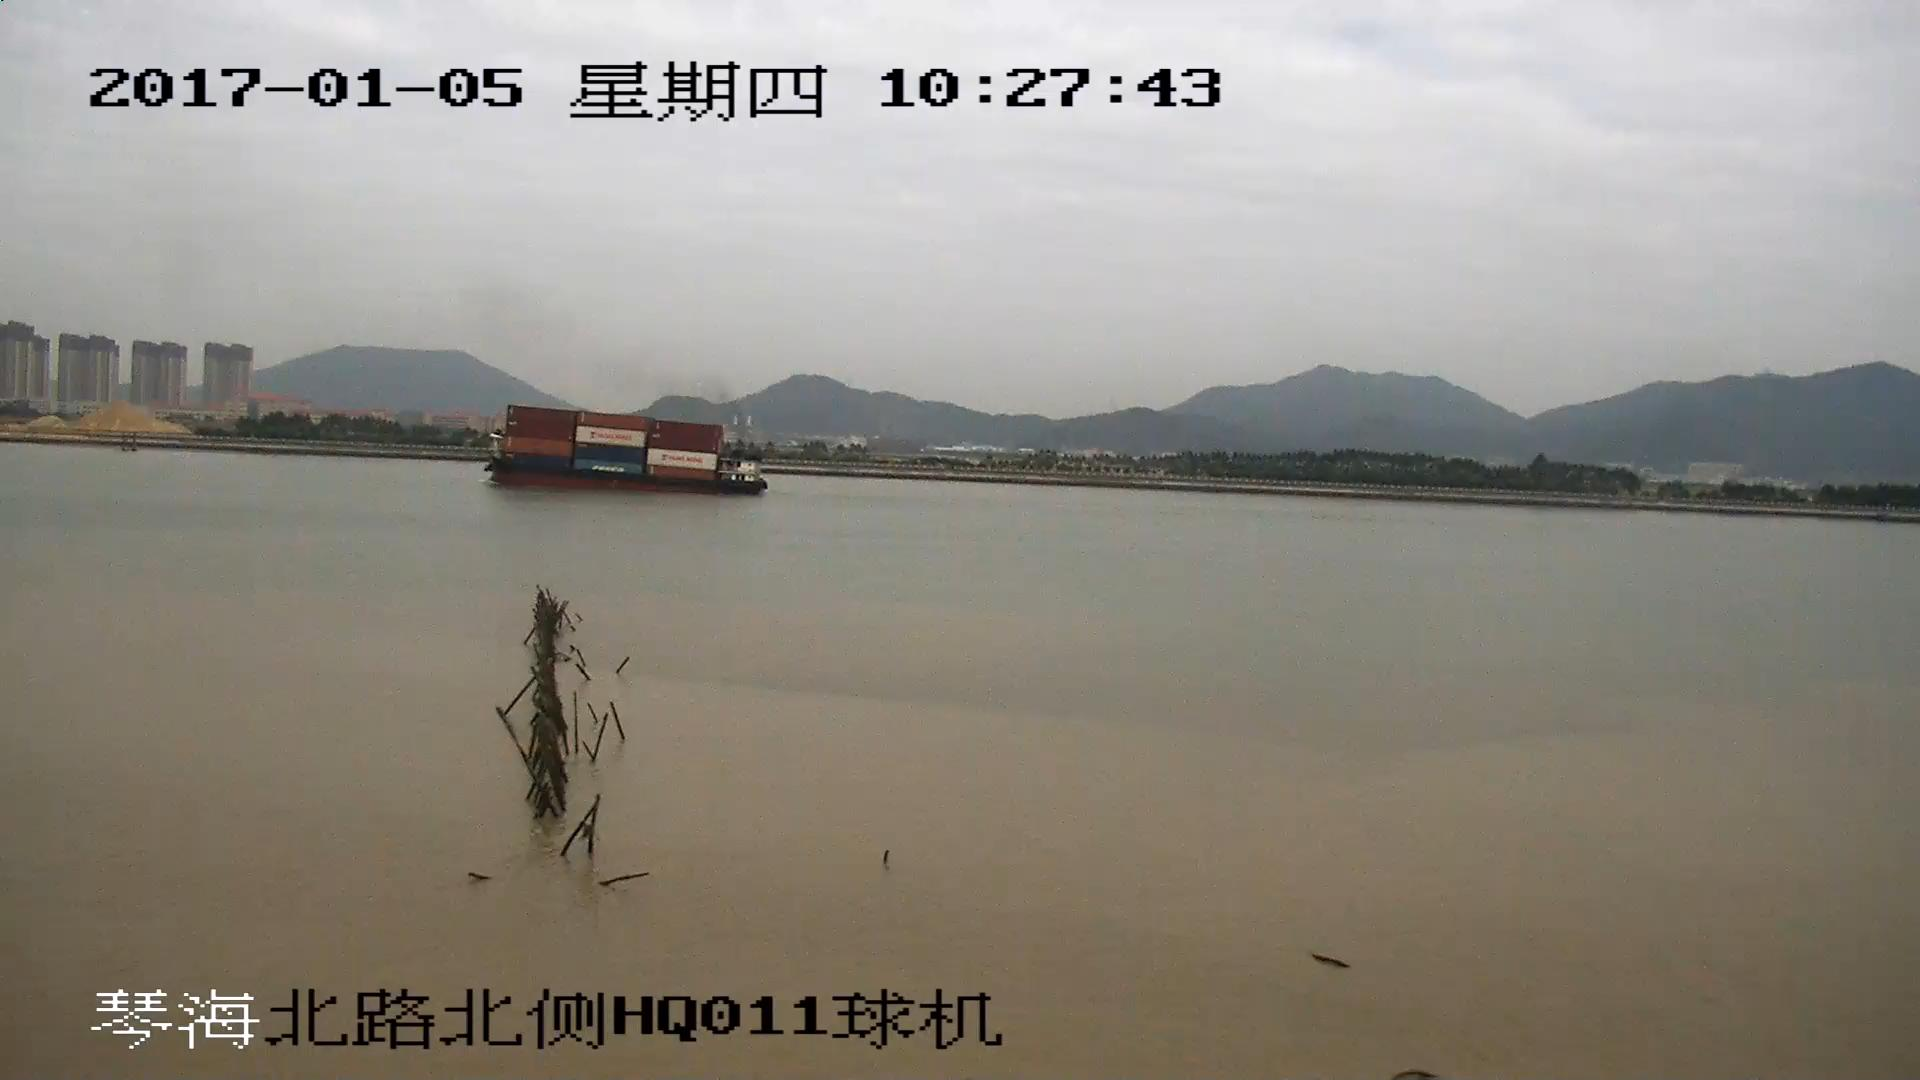container ship: (482, 405, 769, 492)
